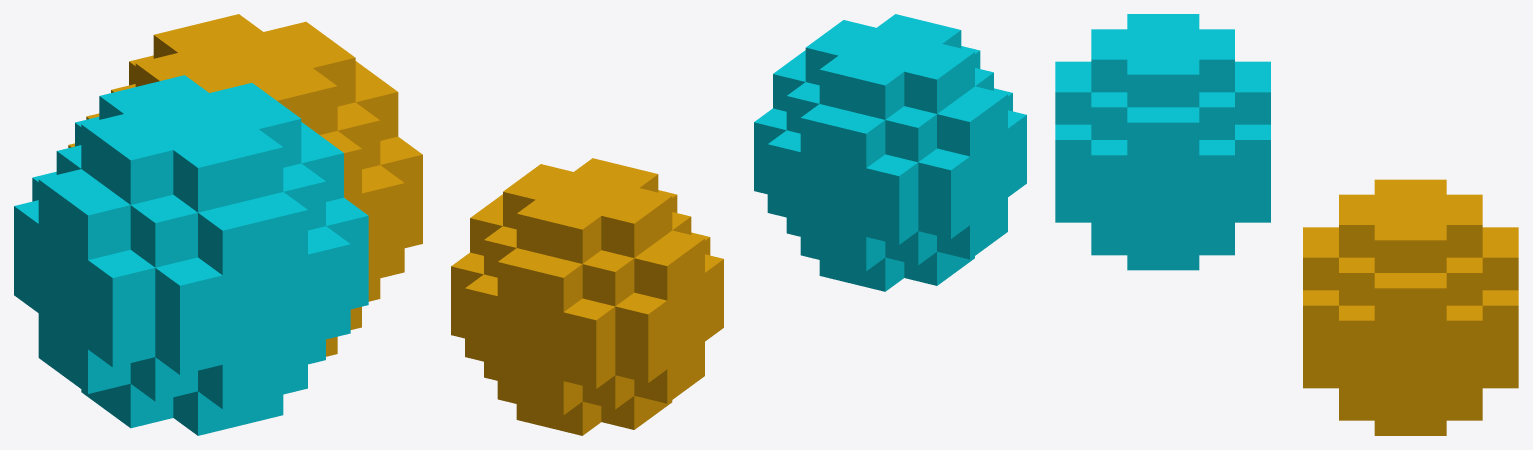
File: orbs.fbx
3 views of the same model, side by side, from view 1: azimuth 30°, elevation 25°; view 2: azimuth 150°, elevation 25°; view 3: azimuth 270°, elevation 25° (orthographic). The views are drawn at different scales.
Visible parts, largest first — view 1: Cube.001, Cube; view 2: Cube, Cube.001; view 3: Cube, Cube.001.
Boxes of the visible parts, bbox=[...] form: Cube.001: bbox=[14, 75, 368, 435]; Cube: bbox=[68, 14, 422, 356]; Cube: bbox=[451, 158, 723, 435]; Cube.001: bbox=[754, 14, 1026, 291]; Cube: bbox=[1303, 179, 1518, 435]; Cube.001: bbox=[1055, 14, 1270, 270].
Bounding box in the file's own units: 1586 × 1218 × 1818.
